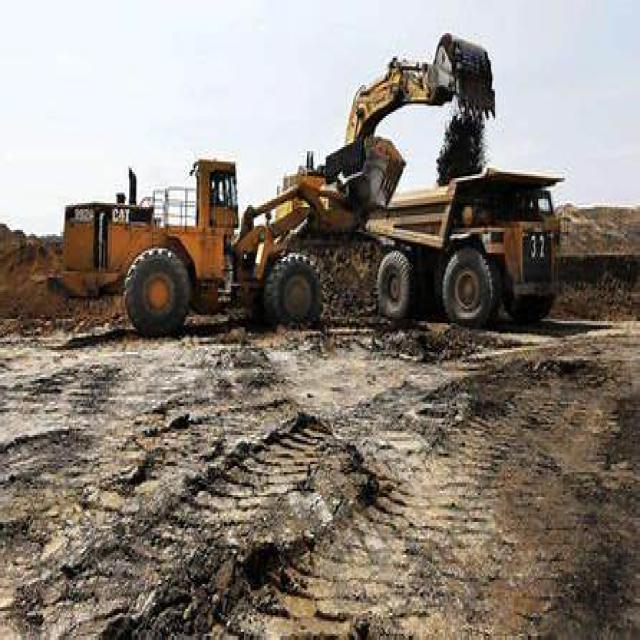buldozerpayloadergrader: (63, 118, 402, 373)
dump_truck: (373, 147, 574, 365)
